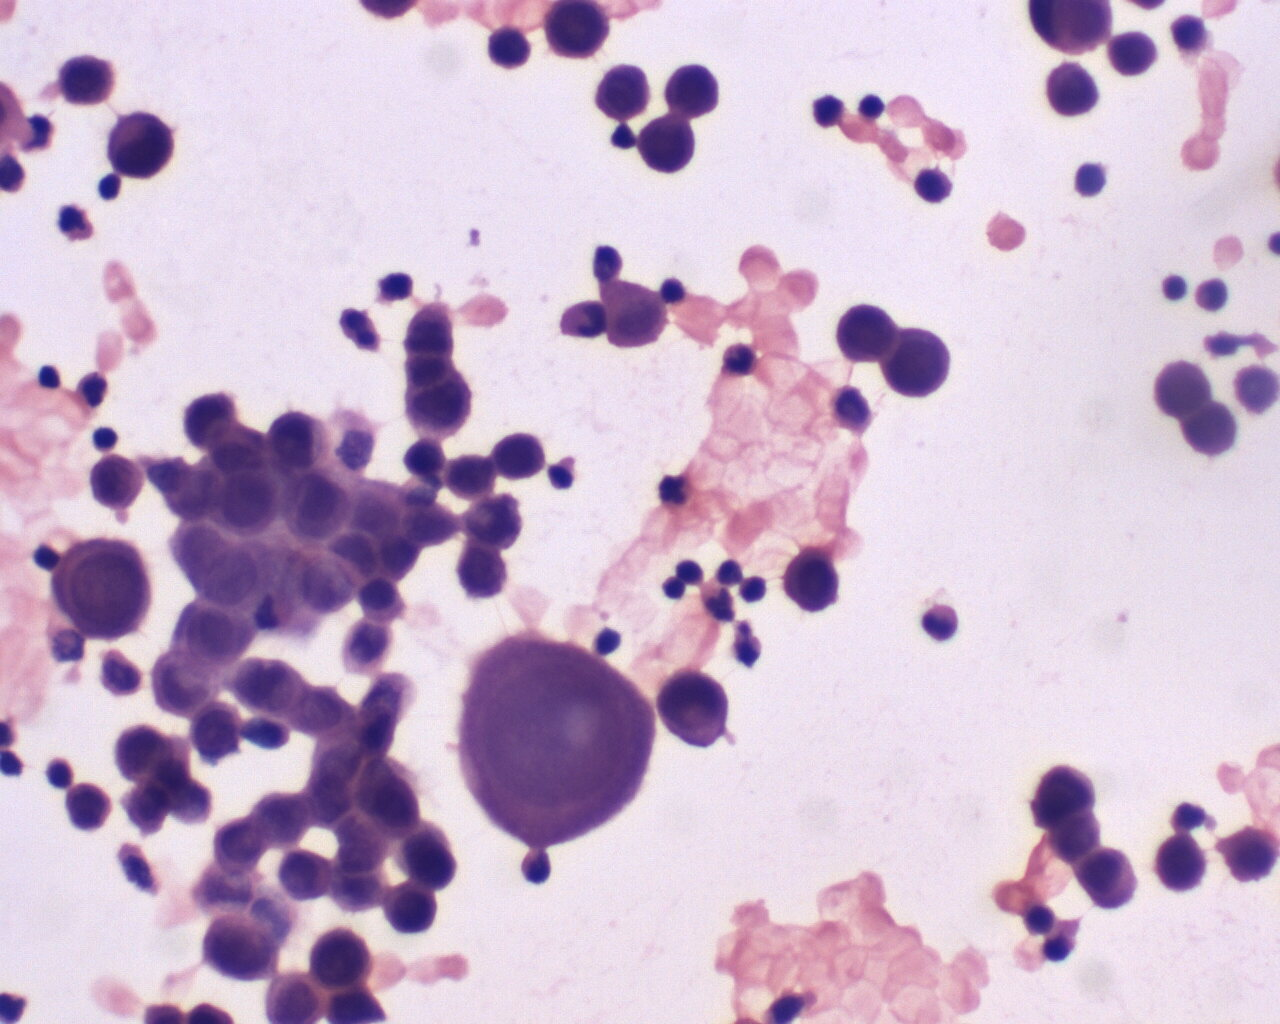ab: (455, 629, 657, 847), (48, 537, 154, 636), (656, 664, 739, 757), (199, 915, 289, 984), (881, 323, 951, 406), (208, 464, 287, 536), (403, 377, 475, 448), (307, 928, 380, 996), (106, 112, 177, 179), (1031, 757, 1098, 828), (585, 59, 655, 125), (831, 303, 900, 369), (1145, 831, 1211, 898), (779, 544, 839, 616), (1042, 56, 1106, 123), (88, 450, 152, 516), (636, 115, 698, 178), (545, 1, 611, 59), (378, 878, 440, 936), (186, 699, 247, 757)
lymph: (1156, 271, 1191, 306), (856, 87, 889, 122)
meso: (603, 279, 671, 354)
neutro: (918, 595, 965, 646), (718, 336, 765, 377)
